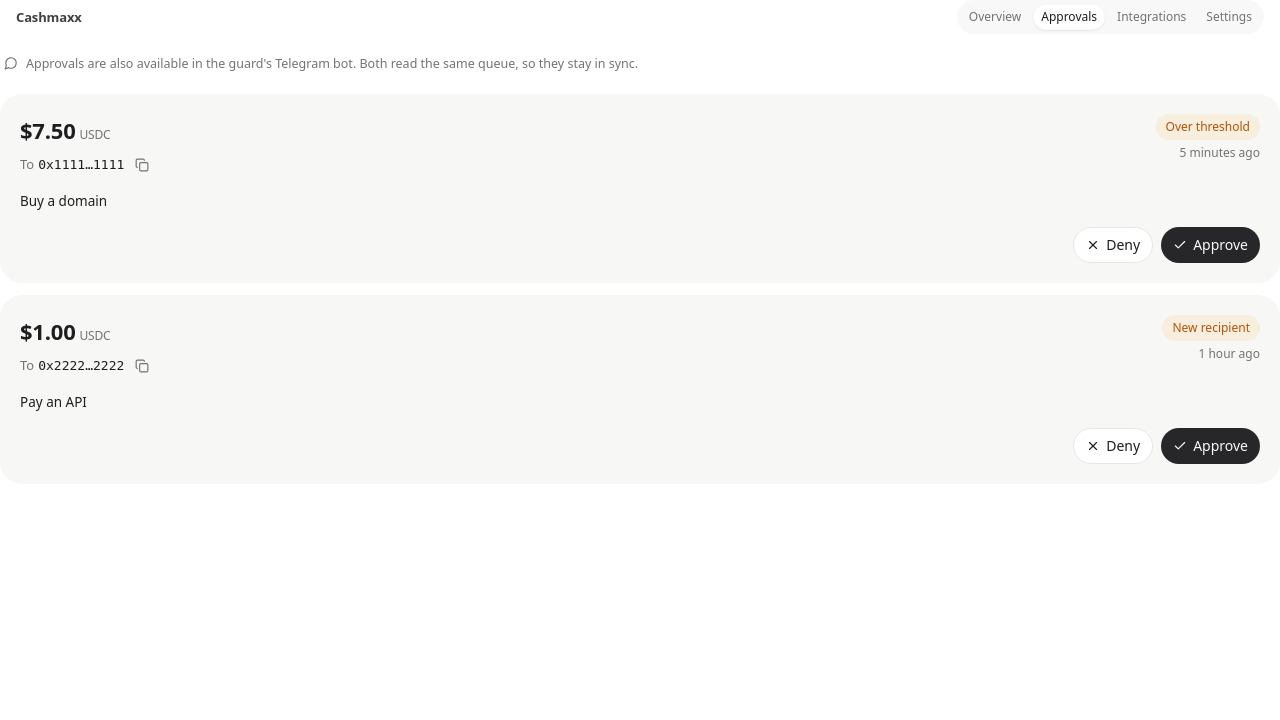
Test: Cashmaxx approvals › does not send the approval when the PIN dialog is cancelled
Click the button "Approve" below "Over threshold": coordinates (1211, 245) [1161,227,1260,263]
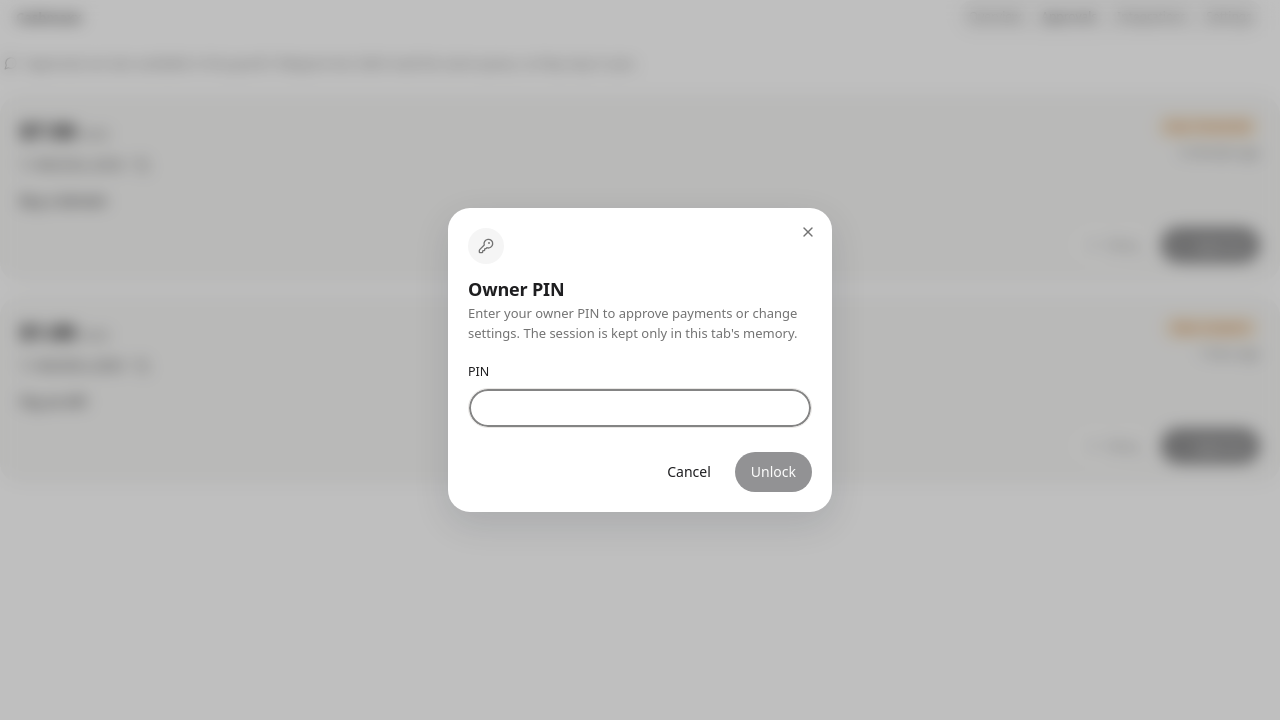
Click the button "Cancel": coordinates (689, 472) [651,452,727,492]
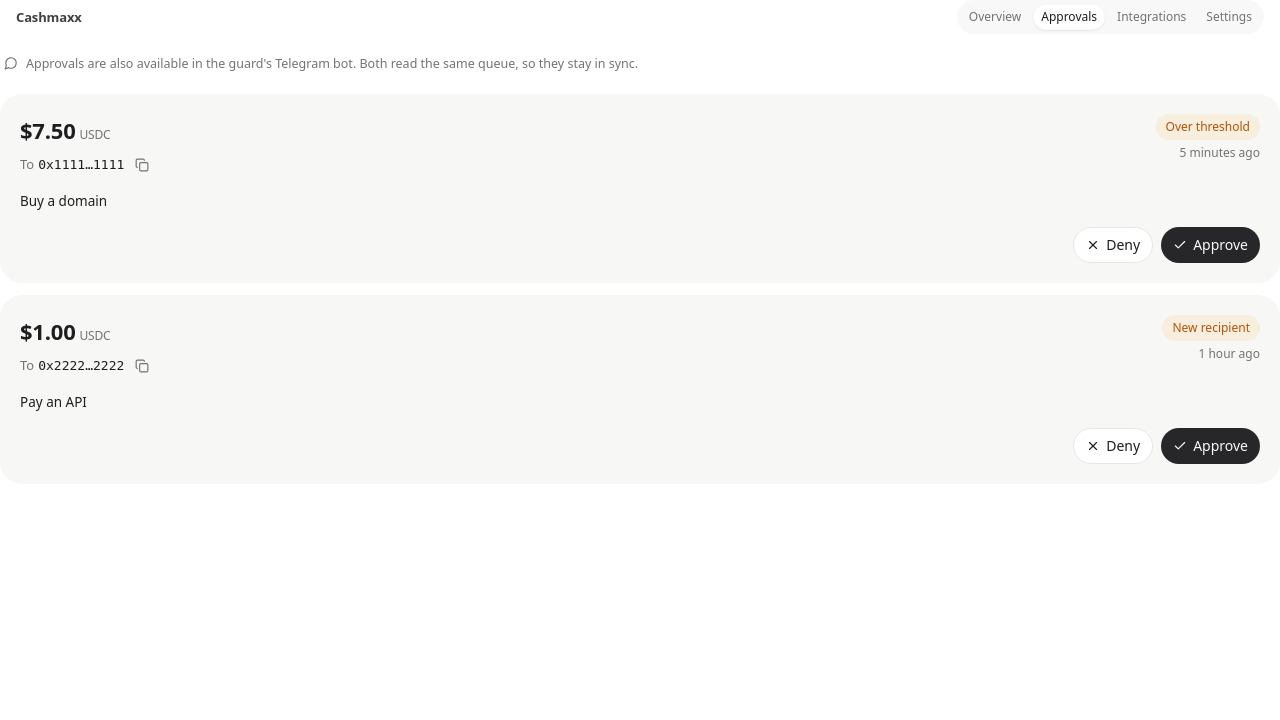
Check: the heading "Owner PIN" is gone
